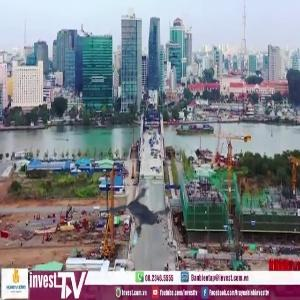drone: (89, 178, 186, 275)
